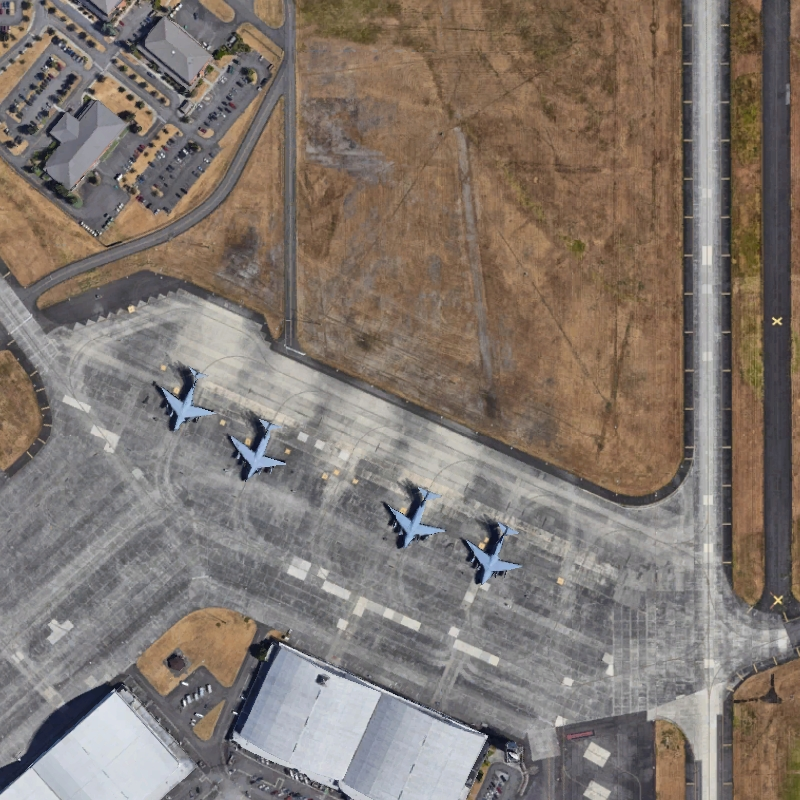A3: (151, 362, 220, 435), (380, 481, 448, 551), (460, 517, 526, 589), (226, 415, 291, 485)
